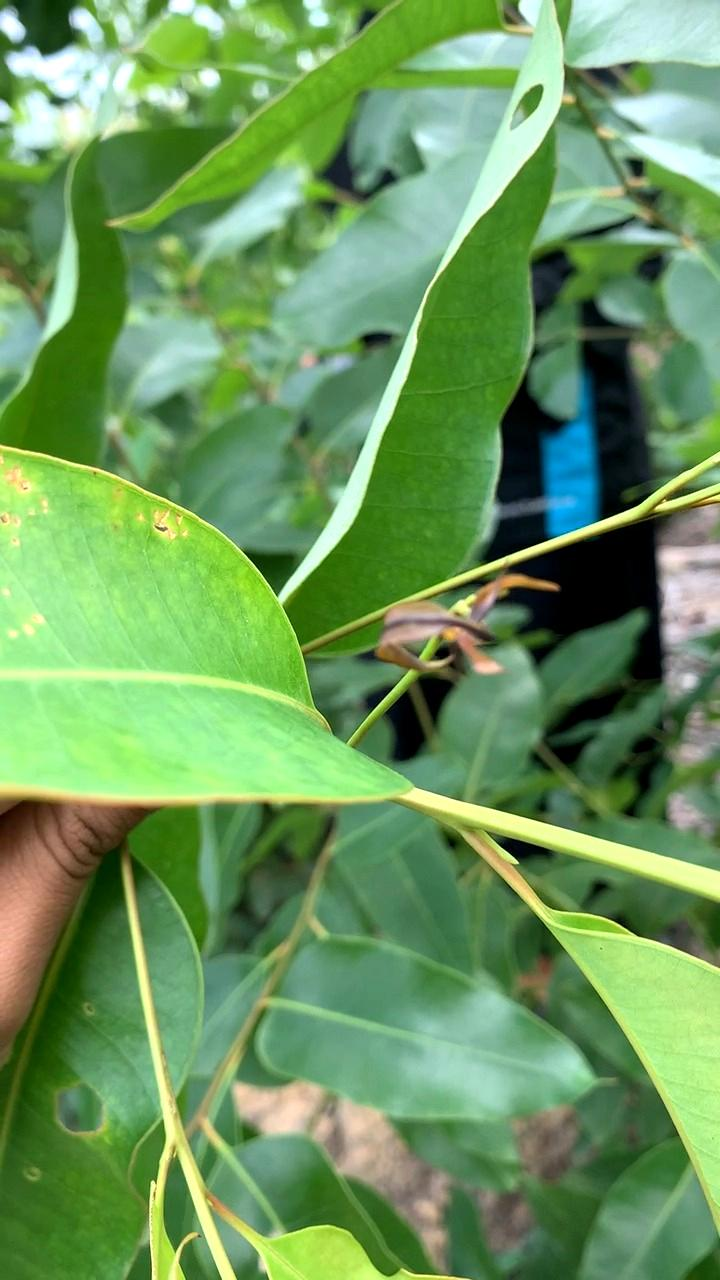Helopeltis-Withered Sprout: (380, 573, 559, 669)
